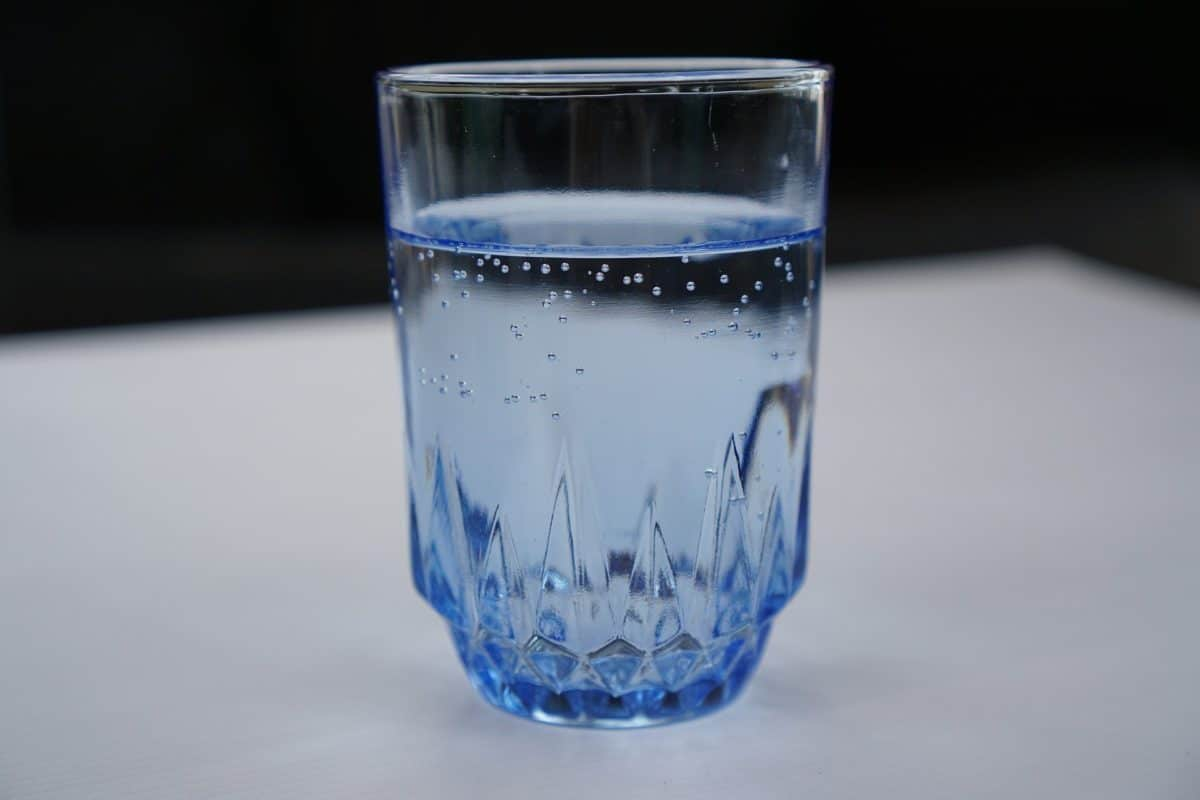glass of water: (365, 49, 822, 729)
